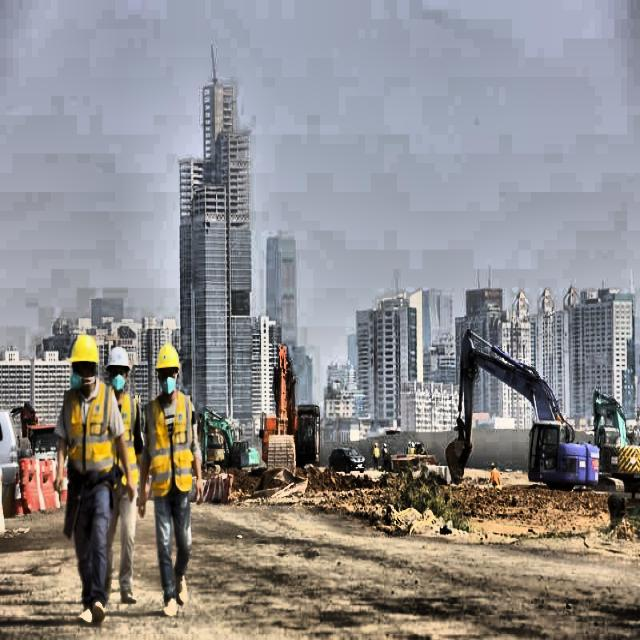safety_helmet: (66, 332, 102, 368), (153, 341, 183, 375)
safety_jacket: (52, 382, 120, 477), (143, 390, 198, 502), (108, 388, 144, 492), (104, 348, 132, 373)
